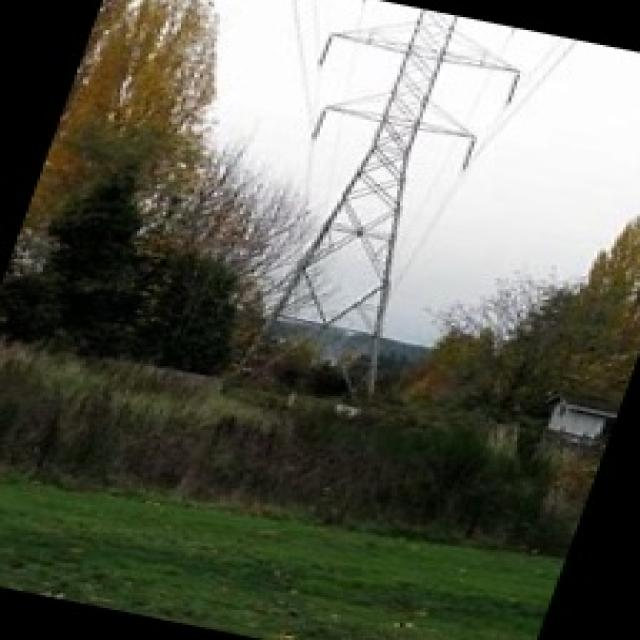utility poles: (332, 307, 524, 407), (203, 217, 318, 381)
